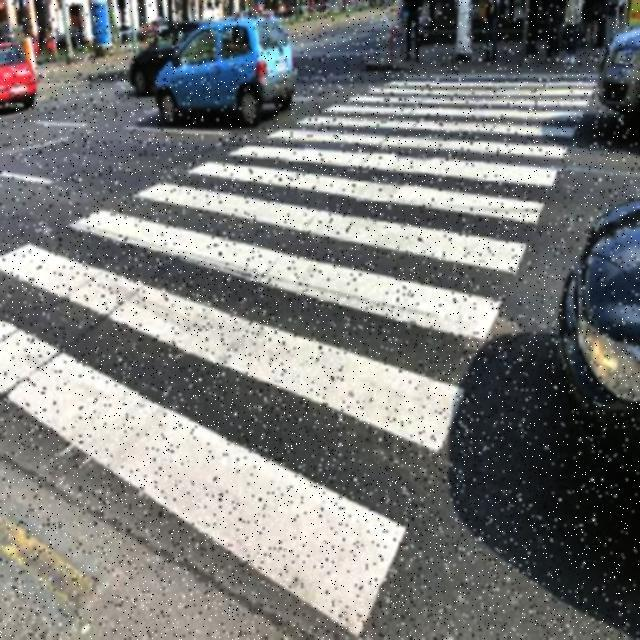Pedestrian crosswalk: (2, 76, 600, 636)
